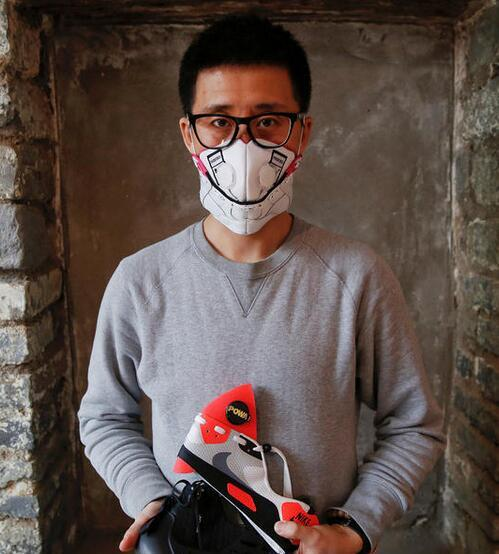face_mask: (193, 62, 295, 215)
